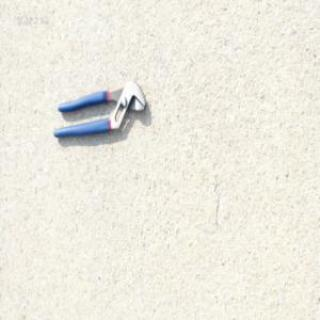Pliertrack_idkeyframe: (51, 78, 145, 138)
